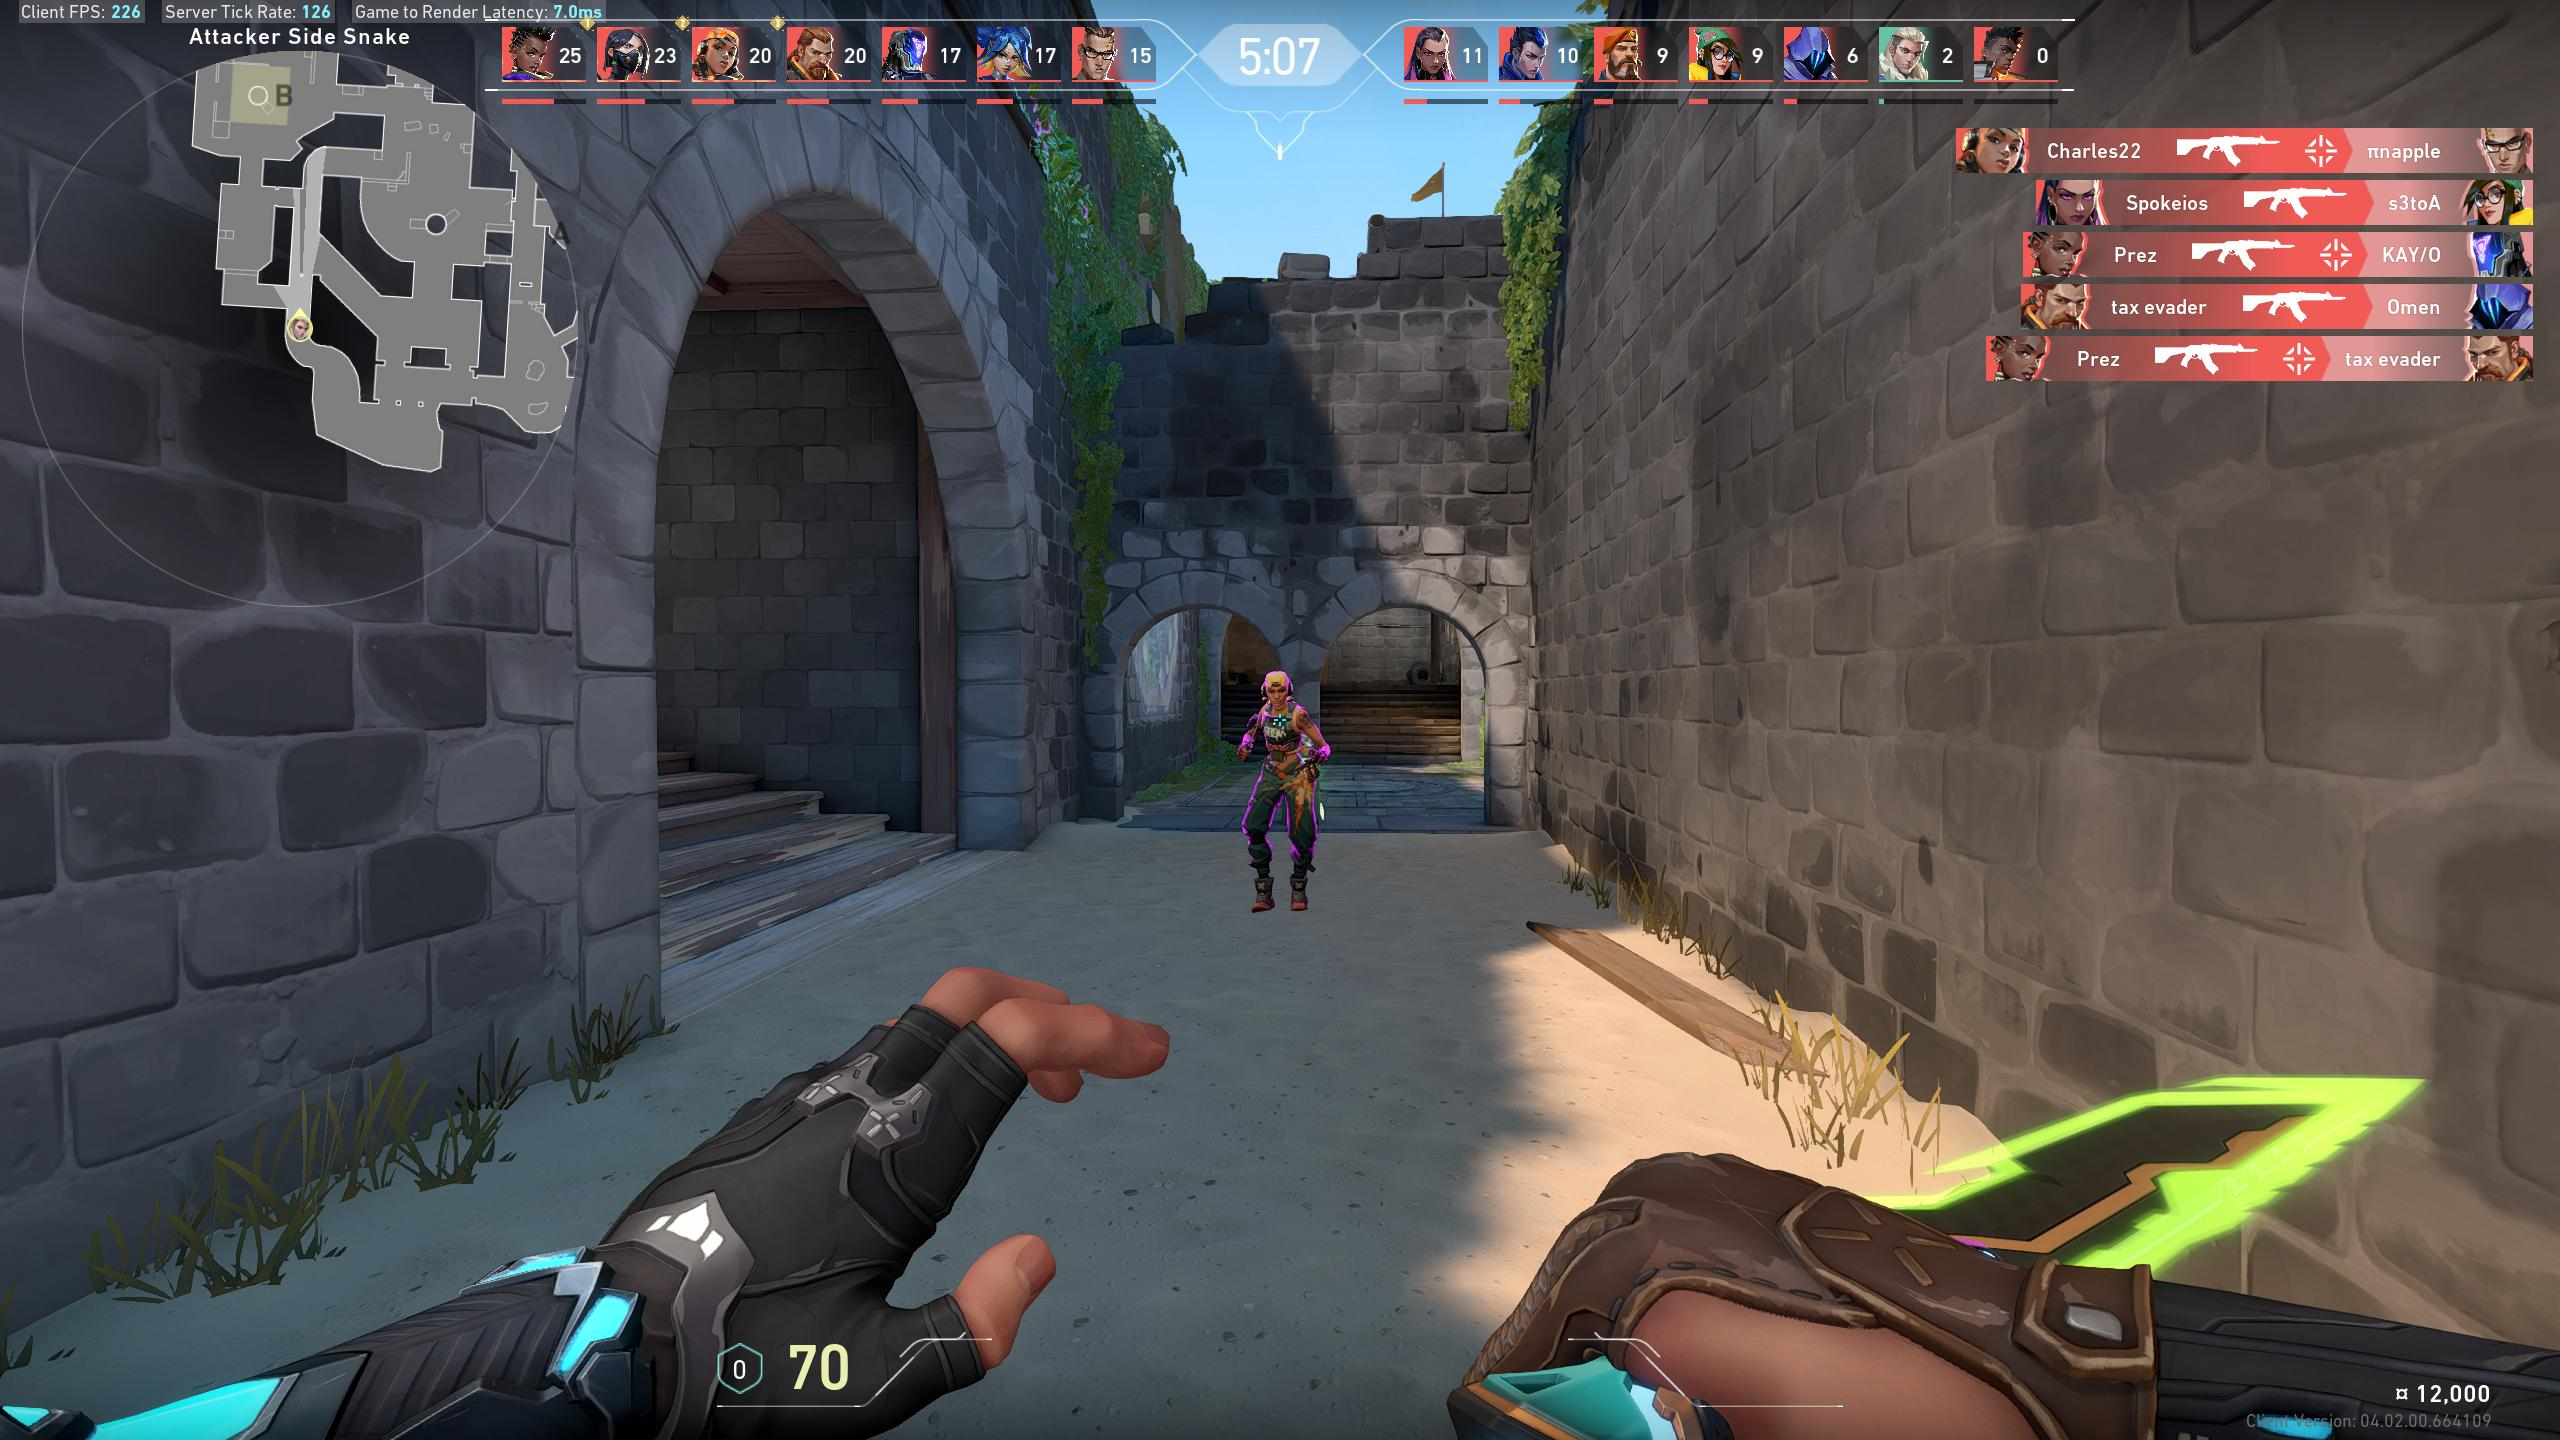enemyBody: (1266, 710, 1298, 765)
enemyHead: (1268, 679, 1287, 702)
